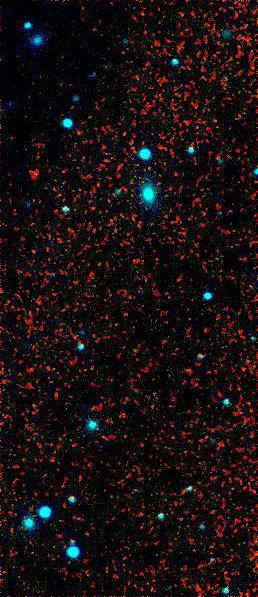star: (20, 161, 50, 191)
